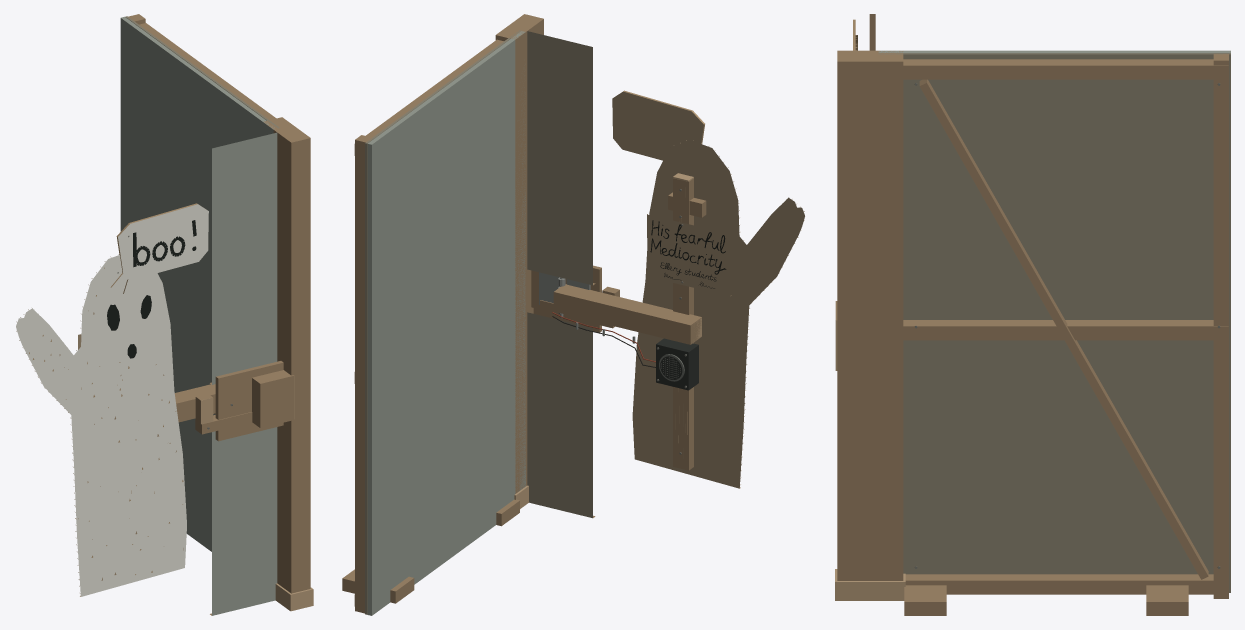
Rendered from ellery-threshold-gag.glb.
3 renders of one model, left to right at view 1: azimuth 30°, elevation 25°; view 2: azimuth 150°, elevation 25°; view 3: azimuth 270°, elevation 25°, orthographic. The views are drawn at different scales.
Visible parts, largest first — view 1: ellery_threshold_scenery, ellery_threshold_ghost, ellery_threshold_mount, ellery_threshold_armature; view 2: ellery_threshold_scenery, ellery_threshold_ghost, ellery_threshold_armature, ellery_threshold_mount; view 3: ellery_threshold_scenery.
Boxes of the visible parts, x1,y1,x2,y2 form: ellery_threshold_scenery: [120, 14, 313, 615]; ellery_threshold_ghost: [16, 203, 208, 596]; ellery_threshold_mount: [195, 370, 294, 434]; ellery_threshold_armature: [174, 384, 215, 422]; ellery_threshold_scenery: [342, 14, 601, 615]; ellery_threshold_ghost: [612, 90, 804, 488]; ellery_threshold_armature: [552, 173, 706, 470]; ellery_threshold_mount: [531, 270, 619, 328]; ellery_threshold_scenery: [835, 14, 1230, 615].
Bounding box in the file's own units: 1.79 × 2.53 × 1.68.
